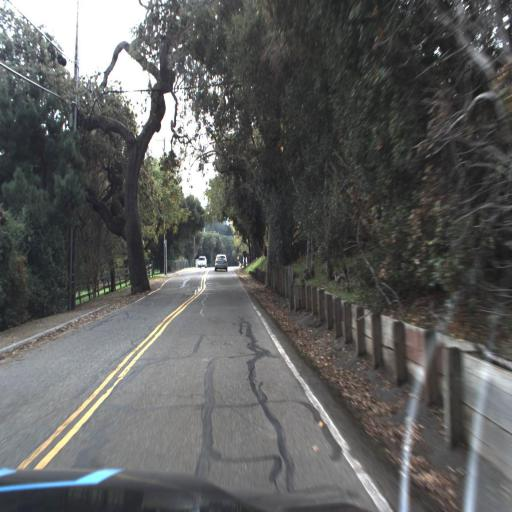car: (210, 249, 231, 275), (194, 254, 208, 272)
